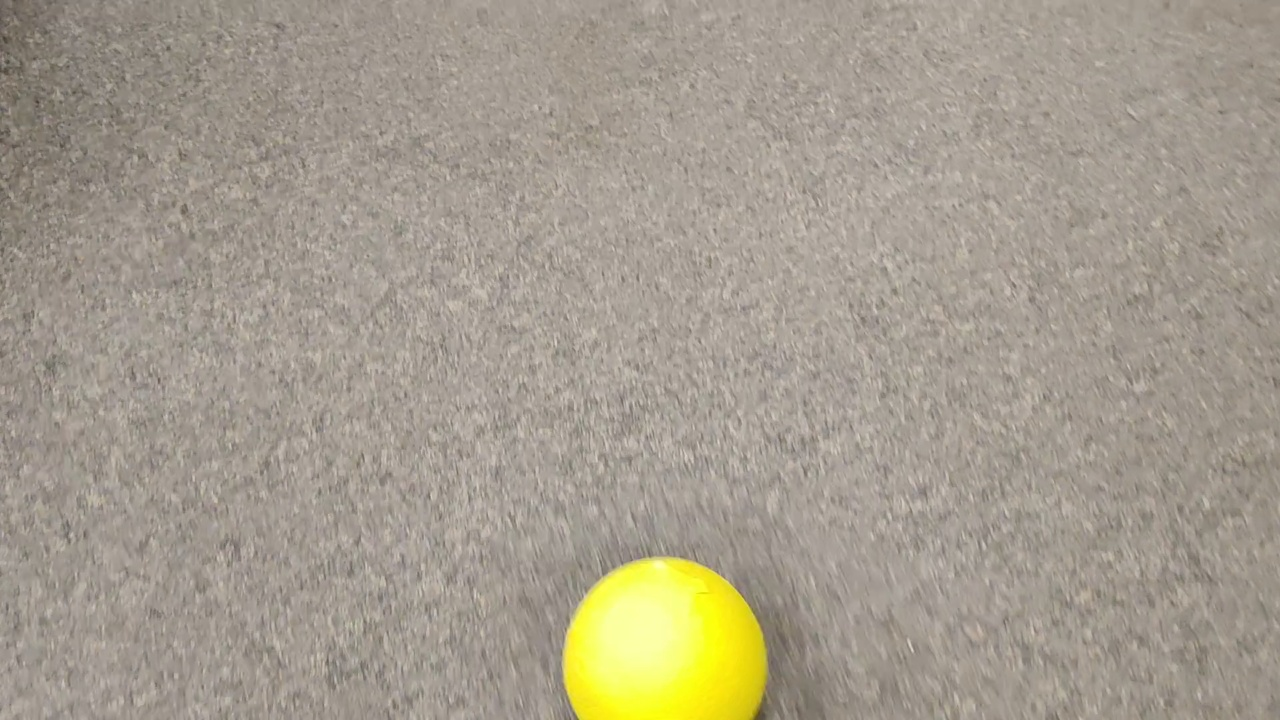Ball: (562, 555, 767, 719)
